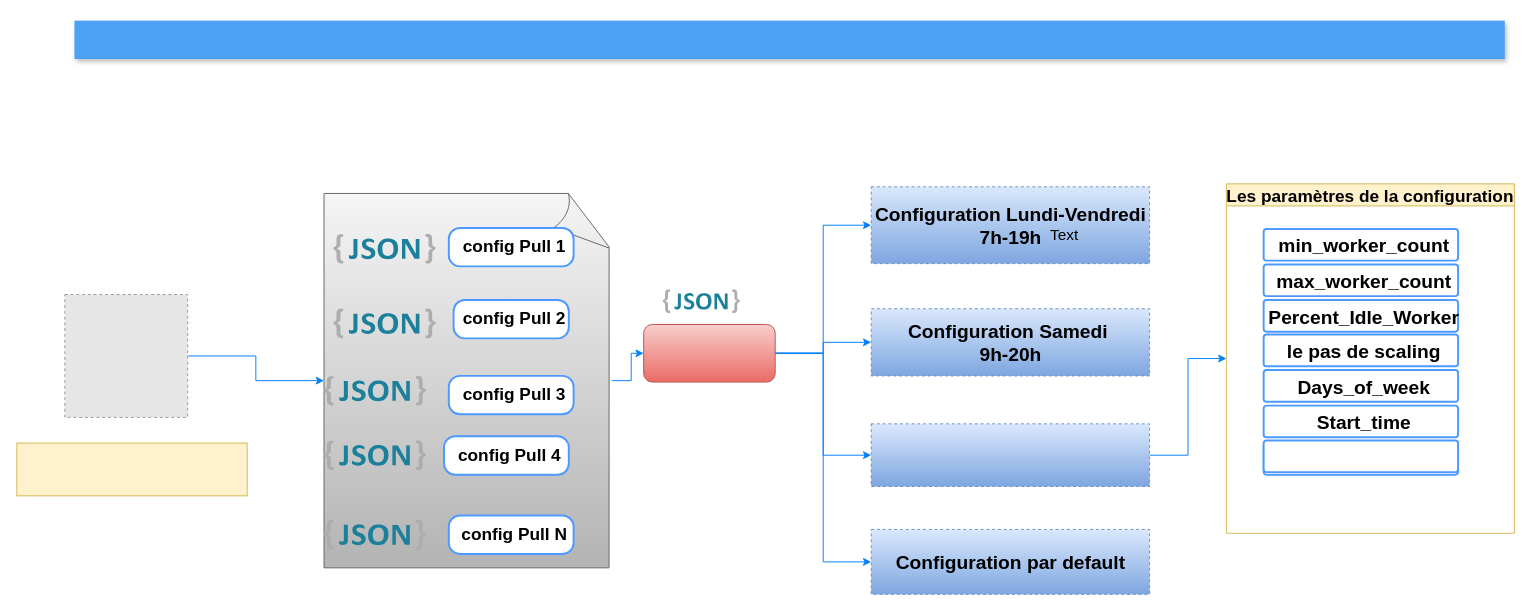
Some shapes in this 1531 by 612 pixel diagram are drawn without their labels. Grey dashed boxes stand in for pictures. Here are the shapes that lost their labels. From the top down, the centre of each, then its label:
the point at 790,40: Architecture du fichier de configurations
the point at 709,353: Config Pull
the point at 131,469: Fichier Configuration pour un service
the point at 1010,455: Configuration Dimanche 10h-21h
the point at 1360,456: End_time
